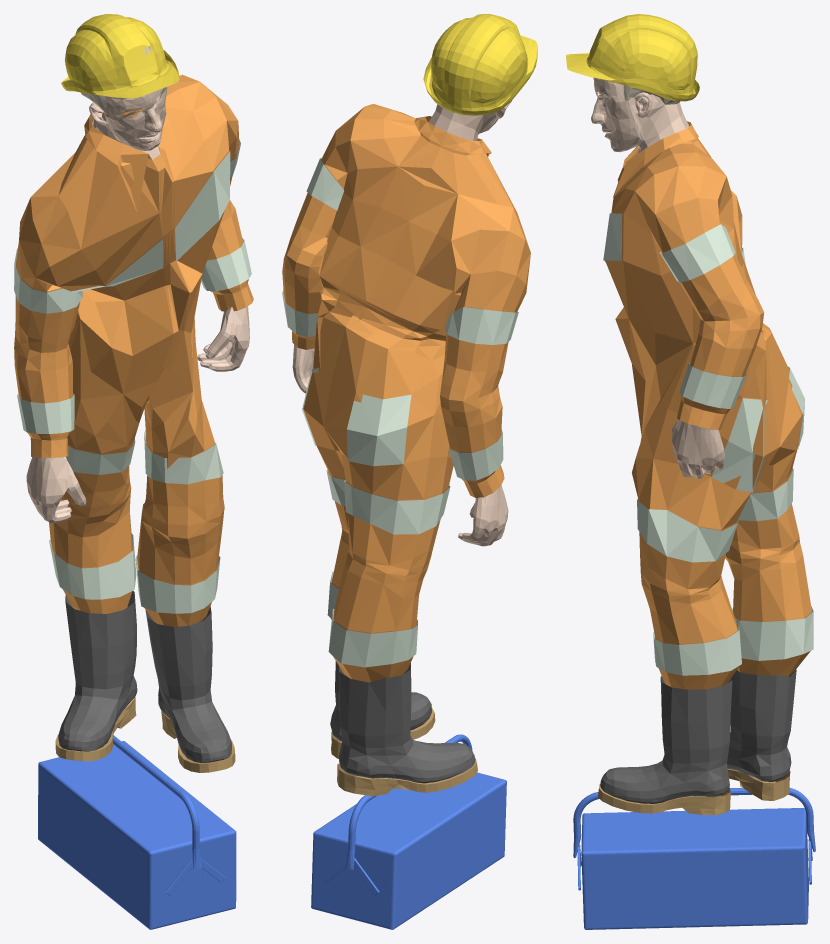
The model's file is funcionario_em_pe.glb.
The picture shows the model from 3 angles, left to right: view 1: azimuth 30°, elevation 25°; view 2: azimuth 150°, elevation 25°; view 3: azimuth 270°, elevation 25°; orthographic projection. The views are drawn at different scales.
Parts seen in each view (by area): view 1: funcionario__auto_16, caixa_ferramentas, funcionario__auto_17, funcionario__auto_14, funcionario__auto_12, funcionario__auto_11, funcionario__auto_18; view 2: funcionario__auto_16, caixa_ferramentas, funcionario__auto_17, funcionario__auto_14, funcionario__auto_11, funcionario__auto_12, funcionario__auto_18, funcionario__auto_19; view 3: funcionario__auto_16, caixa_ferramentas, funcionario__auto_17, funcionario__auto_14, funcionario__auto_11, funcionario__auto_12, funcionario__auto_18, funcionario__auto_19.
Part boxes in pixels (left/top/right/bottom): funcionario__auto_16: left=14, top=74, right=253, bottom=626; caixa_ferramentas: left=38, top=735, right=236, bottom=929; funcionario__auto_17: left=14, top=151, right=251, bottom=613; funcionario__auto_14: left=58, top=591, right=231, bottom=762; funcionario__auto_12: left=26, top=87, right=249, bottom=523; funcionario__auto_11: left=61, top=14, right=179, bottom=98; funcionario__auto_18: left=55, top=697, right=235, bottom=772; funcionario__auto_16: left=282, top=104, right=530, bottom=682; caixa_ferramentas: left=311, top=734, right=506, bottom=929; funcionario__auto_17: left=282, top=290, right=518, bottom=667; funcionario__auto_14: left=330, top=661, right=475, bottom=783; funcionario__auto_11: left=423, top=14, right=537, bottom=115; funcionario__auto_12: left=292, top=101, right=511, bottom=546; funcionario__auto_18: left=331, top=708, right=477, bottom=796; funcionario__auto_19: left=306, top=158, right=344, bottom=210; funcionario__auto_16: left=605, top=121, right=811, bottom=689; caixa_ferramentas: left=573, top=788, right=815, bottom=929; funcionario__auto_17: left=603, top=213, right=813, bottom=675; funcionario__auto_14: left=600, top=669, right=796, bottom=803; funcionario__auto_11: left=566, top=14, right=699, bottom=101; funcionario__auto_12: left=591, top=78, right=724, bottom=478; funcionario__auto_18: left=598, top=769, right=790, bottom=815; funcionario__auto_19: left=659, top=224, right=735, bottom=282.
Bounding box in the file's own units: 0.5938 × 2.17 × 0.5647.
